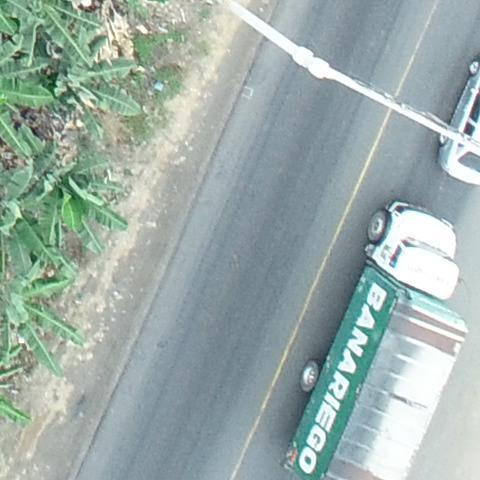Banana-plant: (12, 154, 135, 261), (0, 252, 88, 387), (34, 40, 149, 141)
